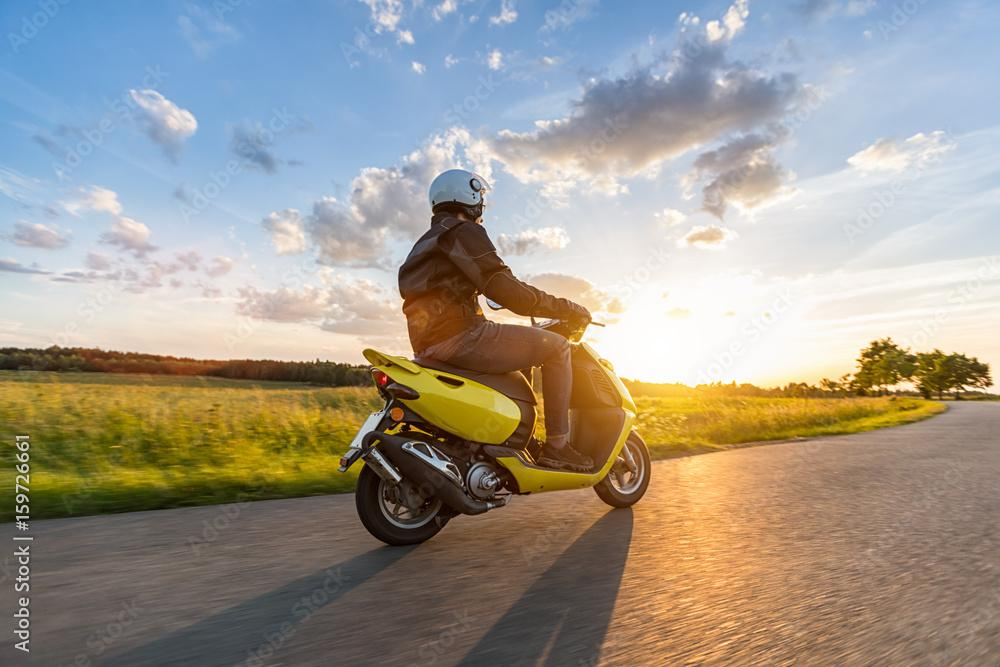helmet: (428, 168, 493, 230)
